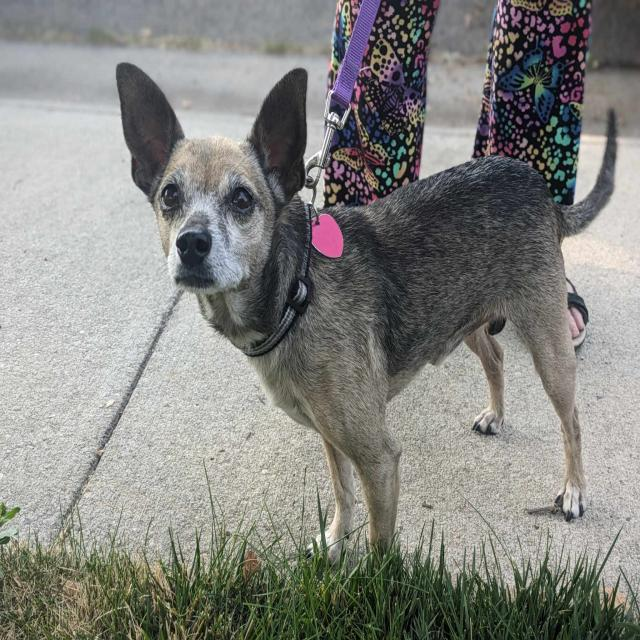chihuahua_dog: (110, 44, 318, 322)
